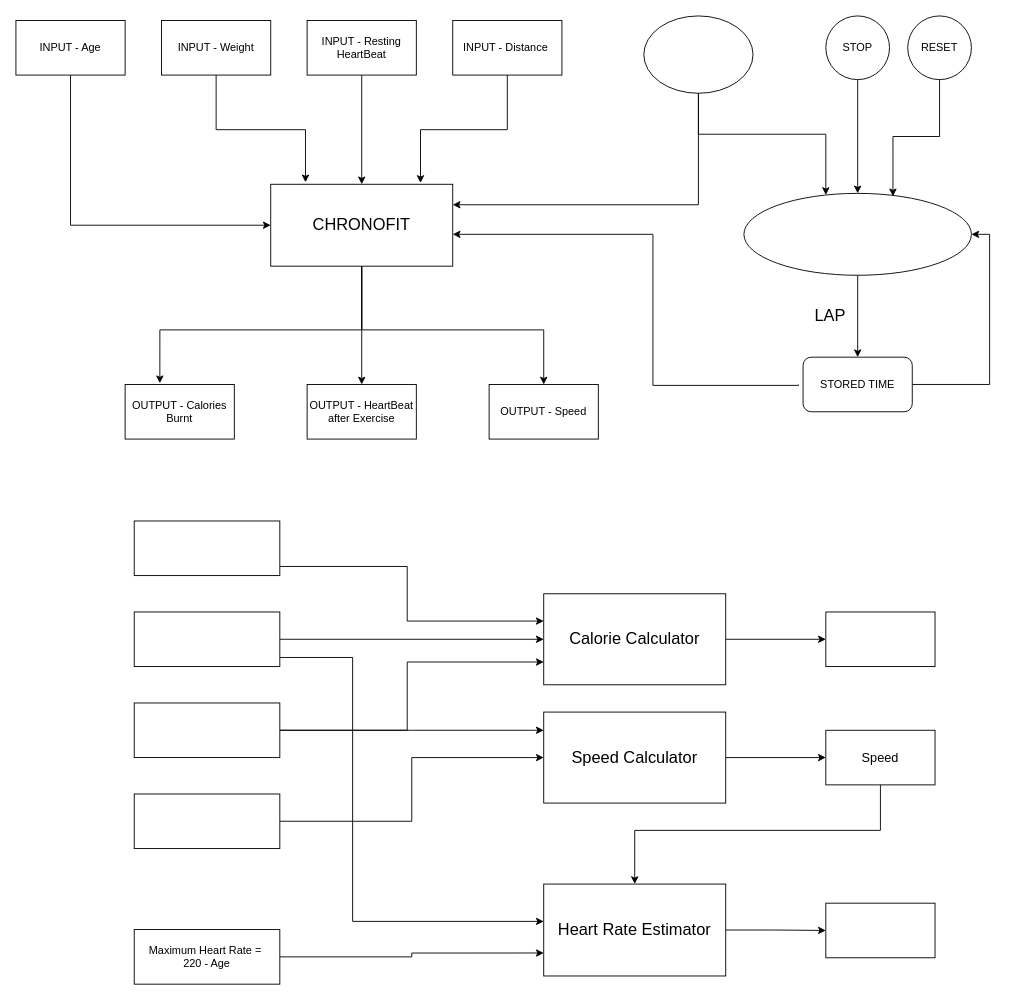
The diagram is 1013 pixels wide and 1000 high, and some of its shapes have lost their labels. Each missing label, with the centre of its shape:
"Calories Burnt" belongs at point (880, 639).
"Distance" belongs at point (206, 821).
"Hardcoded MET data" belongs at point (206, 548).
"Heart Rate after Activity" belongs at point (880, 930).
"INPUT - Activity" belongs at point (698, 54).
"STOPWATCH" belongs at point (857, 233).
"Time" belongs at point (206, 730).
"Weight" belongs at point (206, 639).
